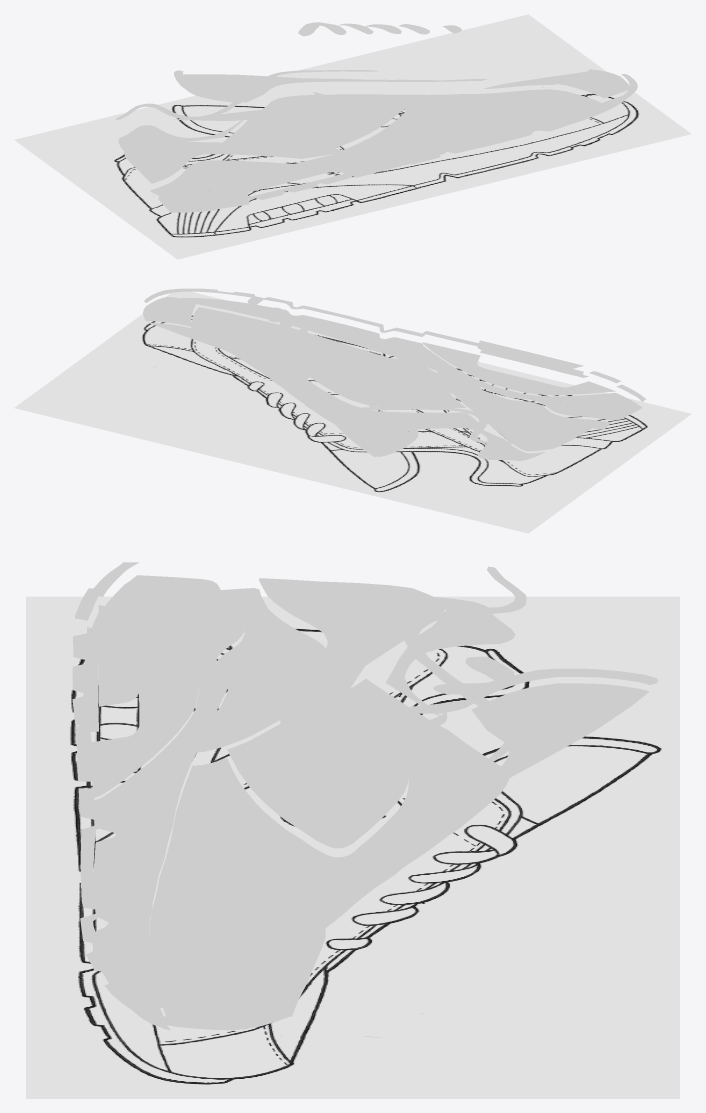
The model's file is NikeAirMax180.FBX.
3 renders of one model, top to bottom at view 1: azimuth 30°, elevation 25°; view 2: azimuth 150°, elevation 25°; view 3: azimuth 270°, elevation 25°, orthographic. The views are drawn at different scales.
Parts seen in each view (by area): view 1: Plane001, Line029, Line026, Line017, Line023, Line039, Line020, Line038, Line027, Line030, Line001, Line037 (+5 smaller); view 2: Plane001, Line029, Line026, Line017, Line023, Line039, Line020, Line027, Line030, Line038, Line001, Line034 (+4 smaller); view 3: Plane001, Line029, Line026, Line017, Line023, Line039, Line020, Line027, Line038, Line030, Line001, Line019 (+5 smaller).
Boxes of the visible parts, x1,y1,x2,y2 form: Plane001: (14,14,691,259); Line029: (223,89,600,156); Line026: (118,71,586,151); Line017: (158,95,624,212); Line023: (123,141,347,183); Line039: (183,74,486,102); Line020: (216,162,412,209); Line038: (150,160,291,195); Line027: (173,92,345,120); Line030: (515,69,629,100); Line001: (170,74,637,208); Line037: (298,22,461,36); Plane001: (14,288,691,533); Line029: (191,307,479,429); Line026: (148,322,546,460); Line017: (181,298,642,420); Line023: (437,367,600,451); Line039: (232,343,408,456); Line020: (422,342,615,394); Line027: (376,358,502,414); Line030: (143,297,244,334); Line038: (482,390,610,429); Line001: (144,288,646,401); Line034: (291,372,521,444); Plane001: (26,596,679,1098); Line029: (149,679,508,1007); Line026: (208,597,515,1016); Line017: (94,575,244,1030); Line023: (192,578,446,752); Line039: (325,683,649,909); Line020: (91,613,199,797); Line027: (279,593,411,736); Line038: (216,588,324,709); Line030: (158,931,292,1030); Line001: (78,562,230,1028); Line019: (98,605,138,706).
Size of the model in its own units: 256 by 40.36 by 141.
